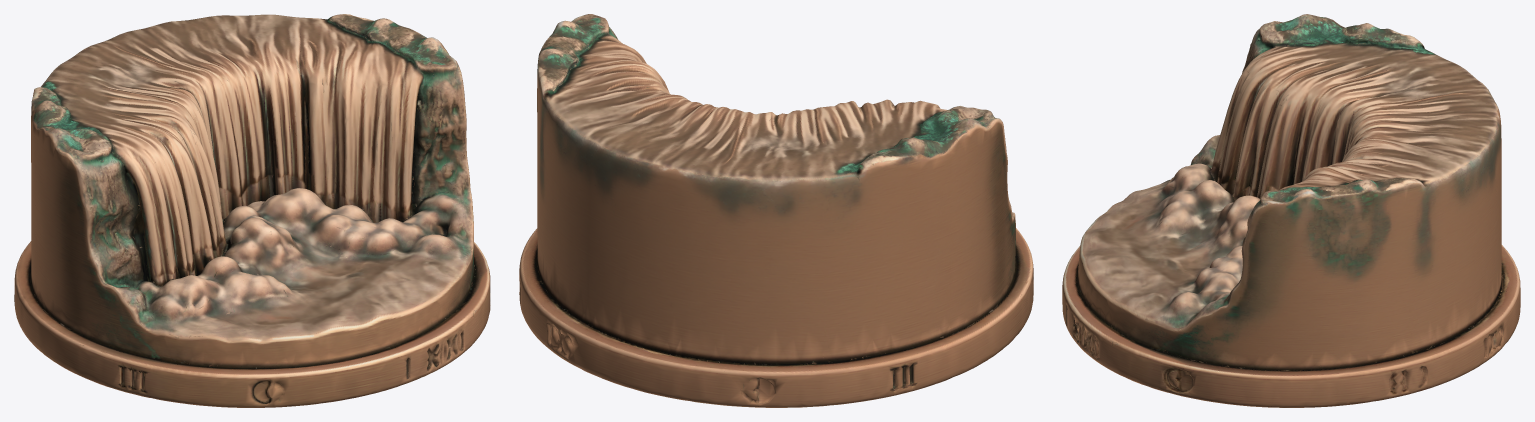
Rendered from niagara_falls_bronze.glb.
3 renders of one model, left to right at view 1: azimuth 30°, elevation 25°; view 2: azimuth 150°, elevation 25°; view 3: azimuth 270°, elevation 25°, orthographic. The views are drawn at different scales.
Visible parts, largest first — view 1: Mesh_0; view 2: Mesh_0; view 3: Mesh_0.
Part boxes in pixels (left/top/right/bottom): Mesh_0: left=14, top=14, right=490, bottom=407; Mesh_0: left=519, top=14, right=1033, bottom=407; Mesh_0: left=1062, top=14, right=1520, bottom=407.
Size of the model in its own units: 1.91 by 0.9901 by 1.91.
1 material, 1 textured.
